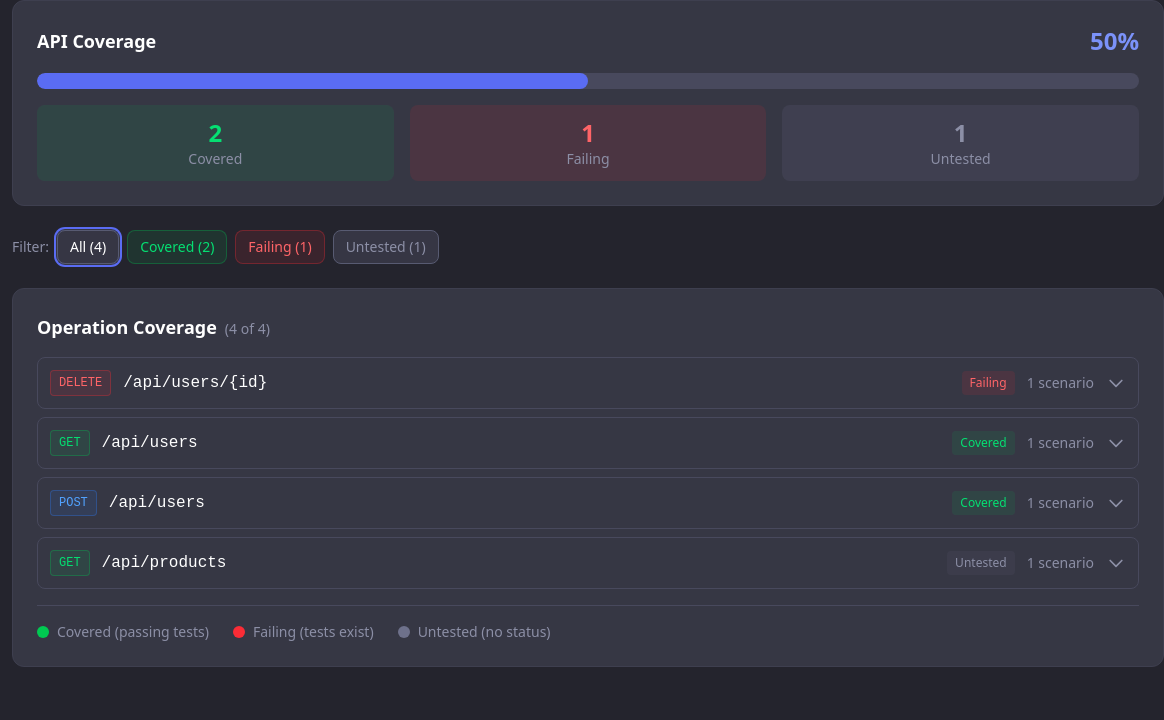
it: OperationCoverageTable › filters by failing status
Click the button "Failing (1)" at (280, 247), box x1=235 y1=230 x2=325 y2=264
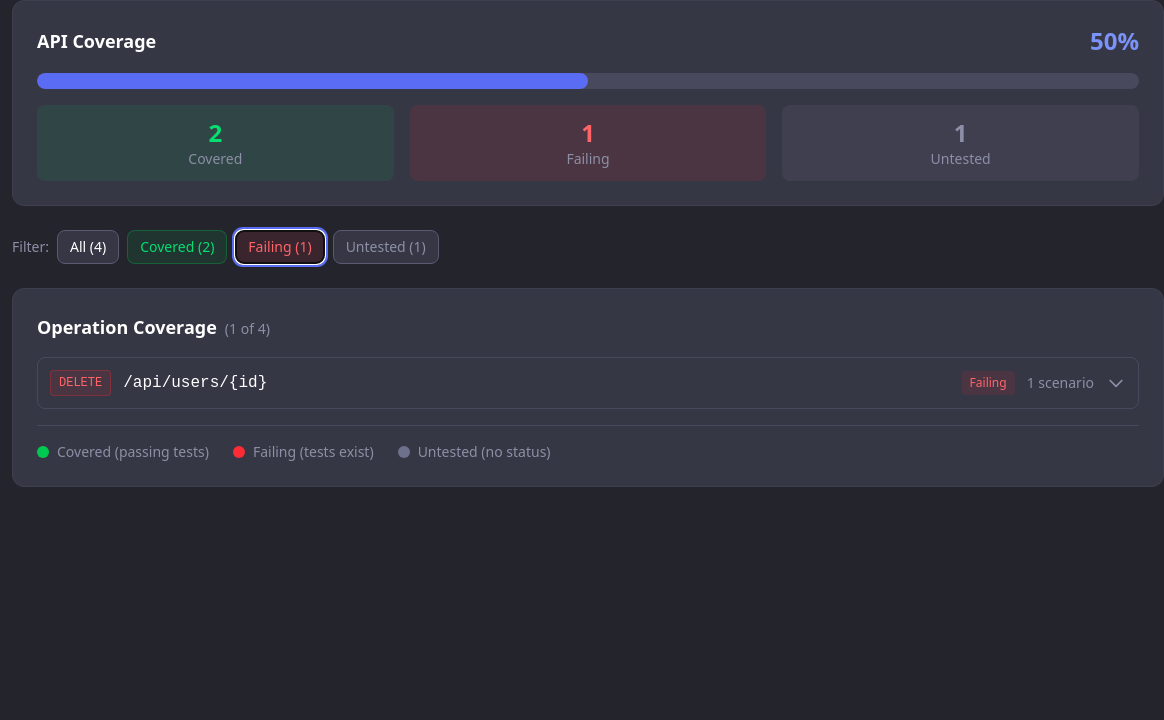
Expected: the text "/api/users/{id}" is shown, x1=123 y1=374 x2=267 y2=392
Expected: the text "(1 of 4)" is shown, x1=225 y1=319 x2=270 y2=338
Expected: the button "/api/products" is gone
